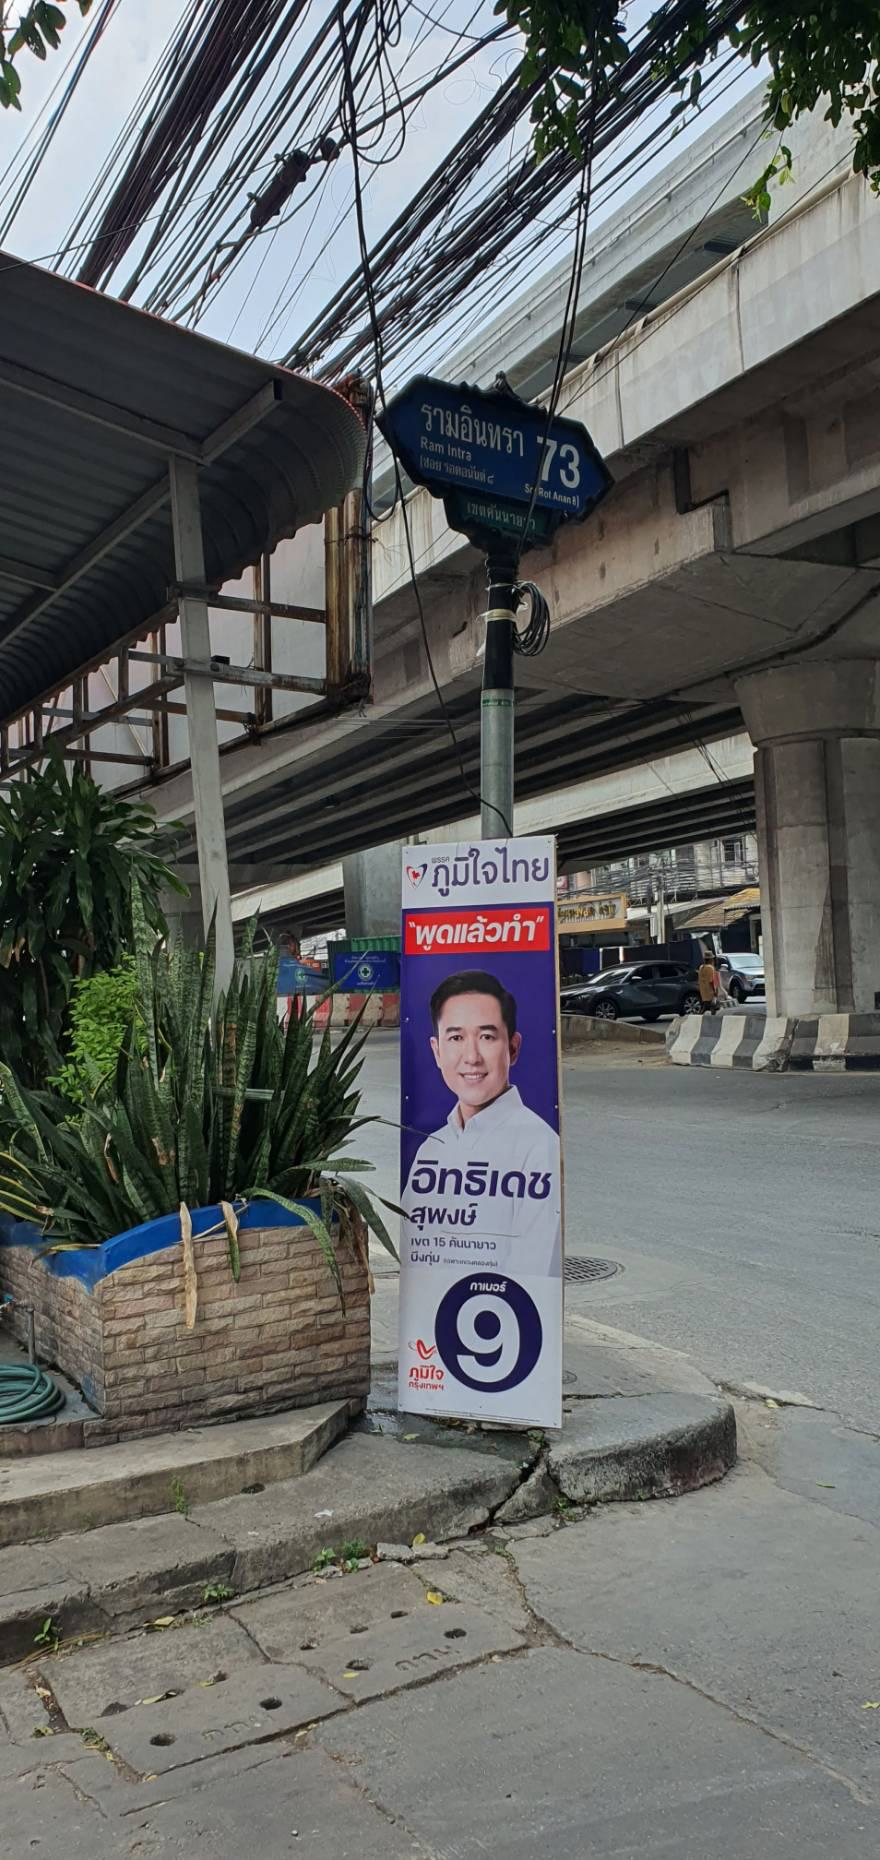Banner: (366, 839, 567, 1450)
